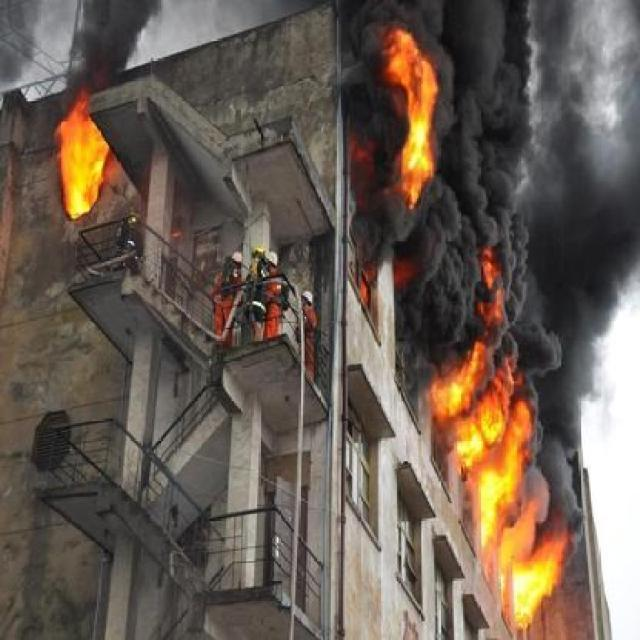Fire: (440, 243, 570, 636), (384, 28, 436, 206), (58, 92, 109, 218)
Smoke: (438, 3, 637, 240), (338, 0, 384, 266), (390, 211, 439, 405), (76, 2, 160, 90)
